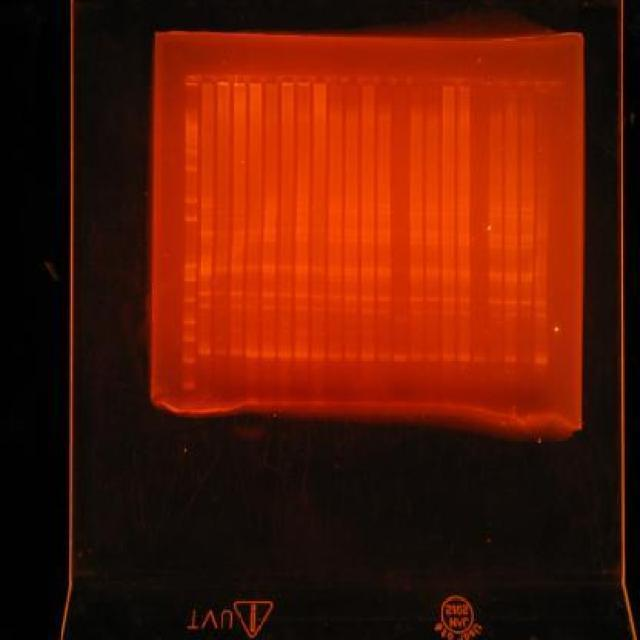B: (243, 348, 260, 360), (534, 354, 548, 368), (260, 348, 276, 360), (294, 351, 310, 362), (360, 352, 376, 362), (310, 351, 327, 360), (276, 351, 292, 360), (393, 353, 409, 362), (243, 304, 260, 312), (327, 352, 342, 361), (228, 348, 244, 356), (260, 304, 276, 312), (260, 292, 276, 300), (261, 262, 277, 270), (294, 292, 310, 300), (393, 315, 409, 323), (503, 355, 519, 363), (376, 353, 392, 361), (424, 353, 440, 361), (343, 352, 359, 360), (441, 309, 457, 317), (408, 294, 424, 302), (408, 308, 424, 316), (294, 328, 310, 336), (441, 353, 456, 361), (198, 348, 212, 356), (213, 348, 227, 356), (230, 303, 244, 311), (229, 290, 243, 298), (473, 355, 487, 363), (457, 354, 471, 362), (534, 312, 548, 320), (410, 353, 424, 361), (426, 308, 440, 316), (457, 209, 471, 217), (199, 302, 212, 310), (310, 306, 327, 312), (228, 328, 244, 334), (244, 291, 260, 297), (261, 270, 277, 276), (294, 304, 310, 310), (294, 264, 310, 270), (294, 236, 310, 242), (393, 296, 409, 302), (504, 238, 520, 244), (310, 331, 326, 337), (310, 266, 326, 272), (310, 270, 326, 276), (376, 228, 392, 234), (376, 268, 392, 274), (360, 294, 376, 300), (424, 296, 440, 302), (424, 268, 440, 274), (424, 241, 440, 247), (360, 228, 376, 234), (360, 202, 376, 208), (408, 267, 424, 273), (231, 238, 246, 244), (488, 271, 503, 277), (488, 300, 503, 306), (377, 296, 392, 302), (344, 308, 359, 314), (327, 294, 342, 300), (328, 307, 343, 313), (441, 270, 456, 276), (424, 230, 439, 236), (424, 204, 439, 210), (327, 266, 342, 272), (328, 228, 343, 234), (344, 208, 359, 214), (198, 291, 212, 297), (198, 266, 212, 272), (199, 230, 213, 236), (199, 240, 213, 246), (200, 197, 214, 203), (200, 203, 214, 209), (214, 290, 228, 296), (246, 264, 260, 270), (262, 237, 276, 243), (247, 228, 261, 234), (263, 227, 277, 233), (248, 237, 262, 243), (278, 292, 292, 298), (278, 306, 292, 312), (278, 264, 292, 270), (279, 226, 293, 232), (488, 276, 502, 282), (488, 238, 502, 244), (488, 232, 502, 238), (488, 206, 502, 212), (488, 356, 502, 362), (488, 312, 502, 318), (457, 236, 471, 242), (534, 300, 548, 306), (534, 272, 548, 278), (518, 357, 532, 363), (520, 213, 534, 219), (520, 207, 534, 213), (520, 244, 534, 250), (520, 234, 534, 240), (504, 213, 518, 219), (504, 207, 518, 213), (504, 298, 518, 304), (534, 277, 548, 283), (504, 244, 518, 250), (296, 207, 310, 213), (294, 226, 308, 232), (312, 294, 326, 300), (377, 238, 391, 244), (378, 308, 392, 314), (344, 294, 358, 300), (360, 308, 374, 314), (442, 296, 456, 302), (442, 274, 456, 280), (442, 240, 456, 246), (424, 211, 438, 217), (457, 204, 471, 210), (360, 238, 374, 244), (360, 267, 374, 273), (377, 202, 391, 208), (344, 266, 358, 272), (328, 237, 342, 243), (344, 237, 358, 243), (360, 208, 374, 214), (410, 272, 424, 278), (410, 240, 424, 246), (409, 234, 423, 240), (409, 230, 423, 236), (409, 211, 423, 217), (409, 204, 423, 210), (198, 276, 212, 282), (294, 276, 308, 282), (503, 273, 519, 278), (376, 273, 392, 278), (278, 330, 294, 335), (376, 210, 392, 215), (458, 297, 471, 303), (536, 233, 549, 239), (424, 235, 439, 240), (344, 202, 359, 207), (328, 209, 343, 214), (328, 203, 343, 208), (458, 310, 470, 316), (458, 270, 470, 276), (520, 300, 532, 306), (520, 312, 532, 318), (199, 236, 213, 241), (214, 270, 228, 275), (214, 266, 228, 271), (200, 210, 214, 215), (216, 240, 230, 245), (230, 269, 244, 274), (230, 265, 244, 270), (246, 269, 260, 274), (232, 230, 246, 235), (263, 232, 277, 237), (264, 209, 278, 214), (278, 269, 292, 274), (232, 209, 246, 214), (294, 270, 308, 275), (488, 213, 502, 218), (488, 199, 502, 204), (457, 232, 471, 237), (519, 273, 533, 278), (520, 239, 534, 244), (504, 312, 518, 317), (534, 283, 548, 288), (442, 236, 456, 241), (442, 232, 456, 237), (360, 273, 374, 278), (344, 272, 358, 277), (328, 233, 342, 238), (344, 233, 358, 238), (344, 229, 358, 234), (217, 210, 230, 215), (458, 275, 471, 280), (504, 234, 520, 238), (294, 232, 310, 236), (360, 234, 376, 238), (327, 272, 342, 276), (198, 272, 212, 276), (200, 218, 214, 222), (216, 234, 230, 238), (488, 244, 502, 248), (457, 242, 471, 246), (519, 278, 533, 282), (504, 278, 518, 282), (312, 228, 326, 232), (312, 232, 326, 236), (378, 234, 392, 238), (426, 274, 440, 278), (230, 274, 244, 278), (216, 231, 230, 234), (232, 203, 246, 206)
L: (176, 68, 572, 97)
M: (178, 98, 198, 396)
P: (182, 354, 196, 366), (181, 382, 196, 392), (182, 214, 198, 223), (182, 334, 196, 344), (184, 164, 198, 173), (182, 318, 196, 326), (182, 297, 196, 305), (183, 275, 197, 283), (183, 262, 197, 270), (184, 196, 198, 204), (185, 148, 198, 156), (184, 140, 198, 146)
Pc: (377, 74, 392, 91), (313, 72, 327, 90), (344, 72, 358, 90), (534, 79, 552, 93), (424, 76, 442, 90), (184, 74, 201, 88), (394, 74, 408, 90), (519, 80, 535, 94), (441, 77, 457, 91), (200, 75, 217, 88), (488, 79, 503, 93), (361, 74, 374, 90), (503, 79, 519, 92), (472, 78, 488, 91), (217, 74, 231, 88), (232, 73, 246, 87), (248, 74, 262, 88), (264, 74, 278, 88), (280, 74, 294, 88), (297, 73, 311, 87), (410, 76, 424, 90), (330, 74, 342, 90), (457, 78, 472, 90), (555, 79, 568, 92)
